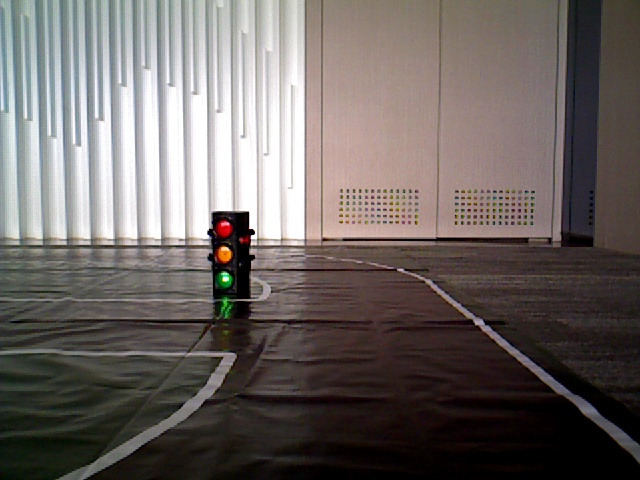green: (216, 215, 232, 294)
